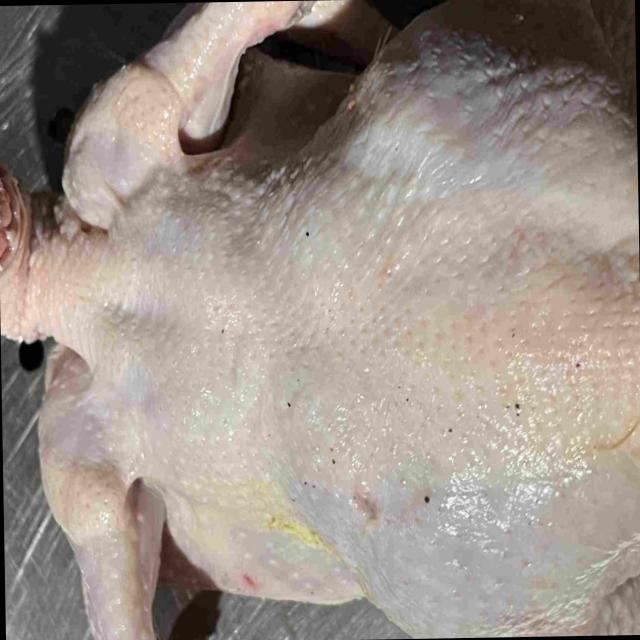back: (63, 197, 640, 542)
leg: (324, 0, 638, 217), (461, 455, 640, 638)
neck: (0, 163, 109, 362)
wing: (62, 0, 386, 227), (40, 440, 217, 640)
